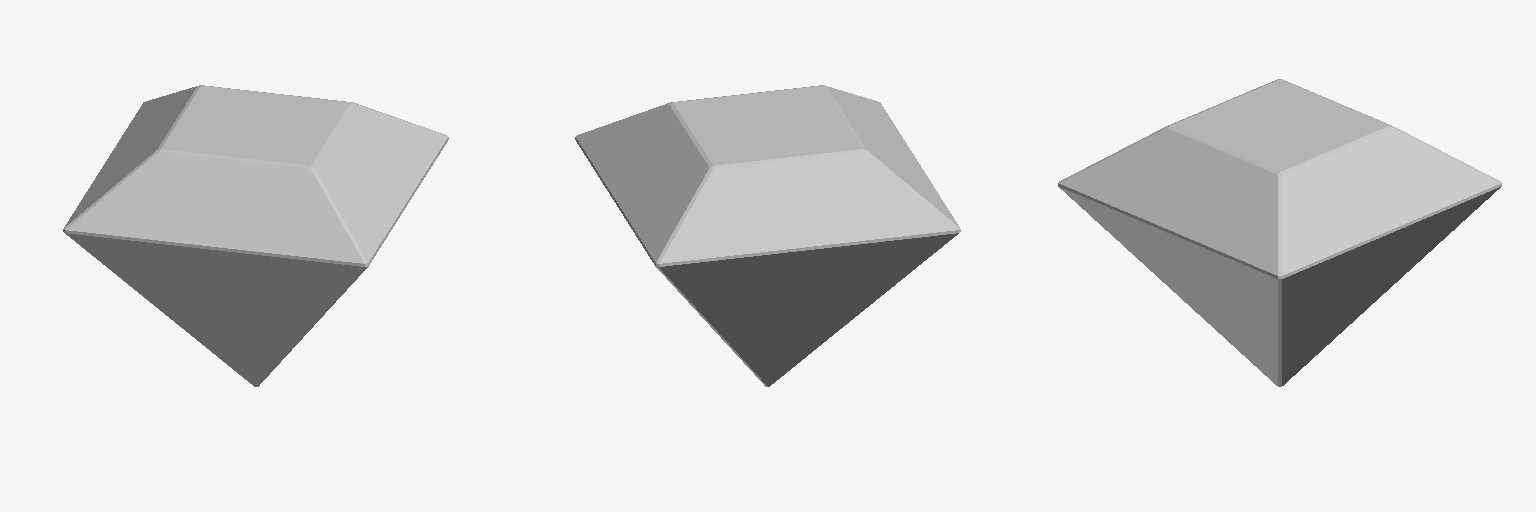
File: 4-table-cut.obj
3 views of the same model, side by side, from view 1: azimuth 30°, elevation 25°; view 2: azimuth 150°, elevation 25°; view 3: azimuth 270°, elevation 25° (orthographic).
Parts seen in each view (by area): view 1: gem_Cylinder; view 2: gem_Cylinder; view 3: gem_Cylinder.
Part boxes in pixels (x1,y1,x2,y2): gem_Cylinder: (63, 85, 448, 386); gem_Cylinder: (575, 85, 960, 386); gem_Cylinder: (1058, 79, 1501, 386).
Bounding box in the file's own units: 19.67 × 12.74 × 19.67.